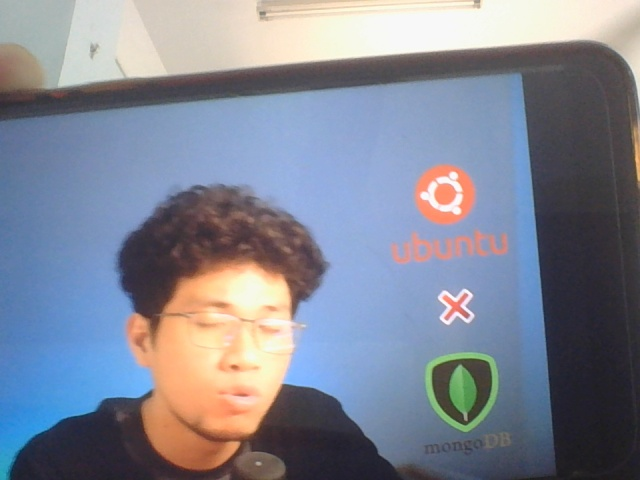fake: (131, 188, 320, 456)
